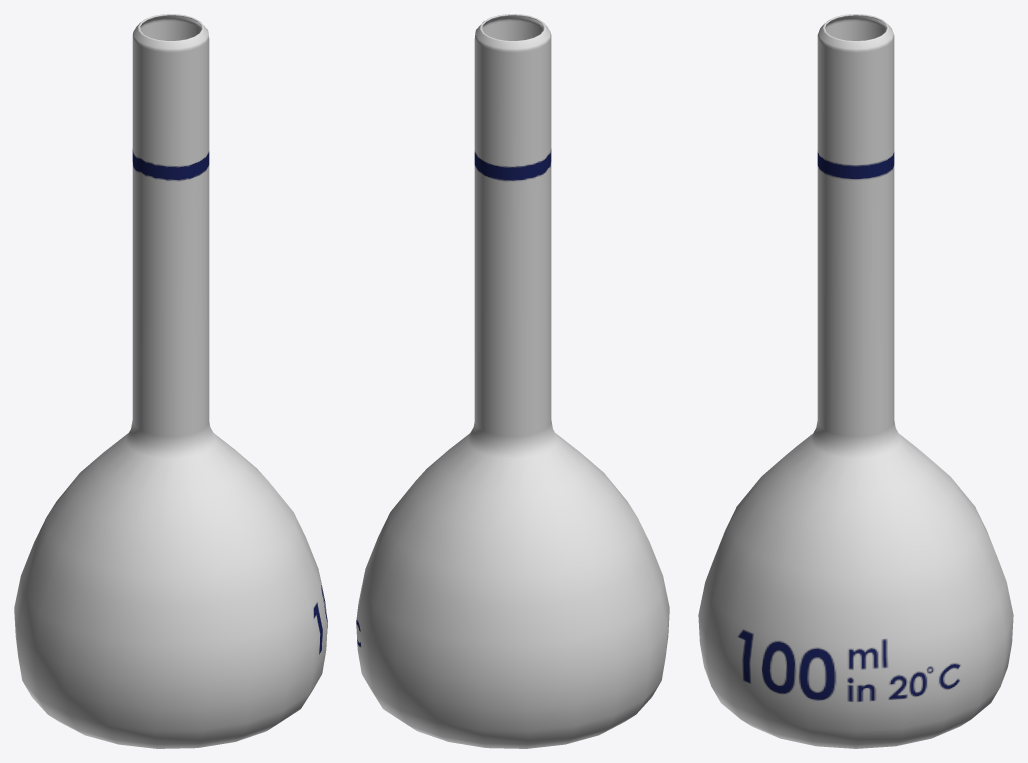
The model's file is volumetric_flask_100ml.glb.
3 renders of one model, left to right at view 1: azimuth 30°, elevation 25°; view 2: azimuth 150°, elevation 25°; view 3: azimuth 270°, elevation 25°, orthographic.
Parts seen in each view (by area): view 1: Vidro_100mL; view 2: Vidro_100mL; view 3: Vidro_100mL.
Part boxes in pixels (bbox=[...]): Vidro_100mL: bbox=[14, 14, 327, 748]; Vidro_100mL: bbox=[356, 14, 669, 748]; Vidro_100mL: bbox=[698, 14, 1013, 748].
Size of the model in its own units: 0.072 by 0.1691 by 0.072.
Materials: 1 (1 with a texture image).
